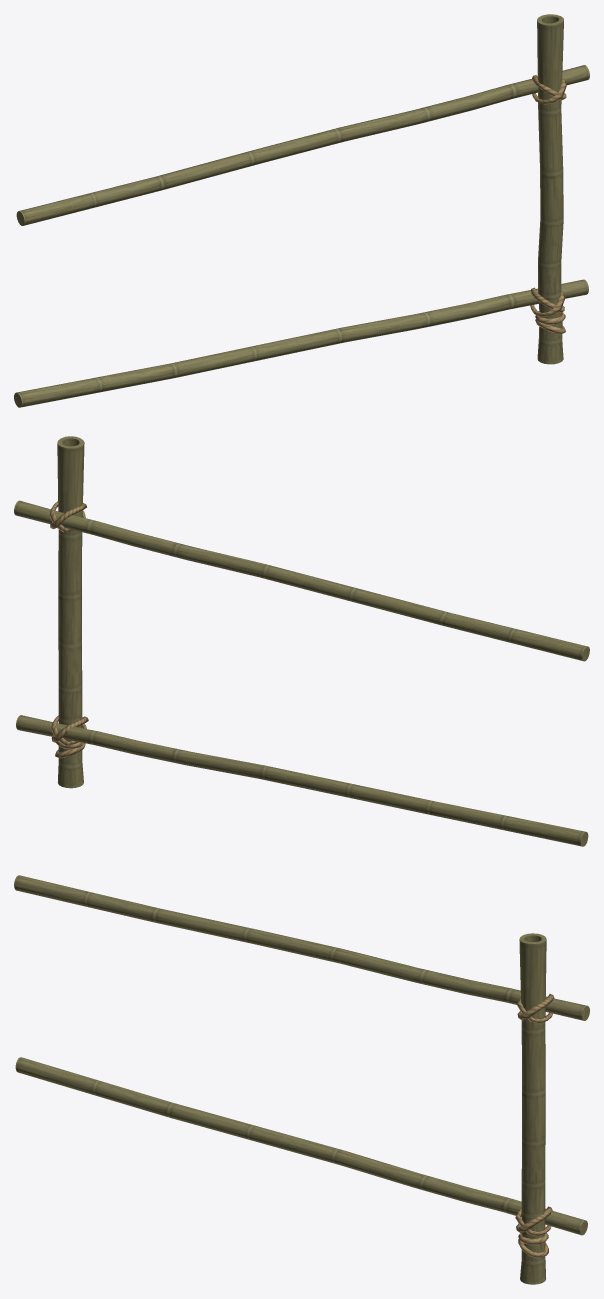
Rendered from SM_EastLands_BambooFence_B_03.fbx.
3 views of the same model, one above another, from view 1: azimuth 30°, elevation 25°; view 2: azimuth 150°, elevation 25°; view 3: azimuth 330°, elevation 25° (orthographic).
Parts seen in each view (by area): view 1: SM_EastLands_BambooFence_B_03_LOD0; view 2: SM_EastLands_BambooFence_B_03_LOD0; view 3: SM_EastLands_BambooFence_B_03_LOD0.
Part boxes in pixels (bbox=[...]): SM_EastLands_BambooFence_B_03_LOD0: bbox=[14, 14, 589, 407]; SM_EastLands_BambooFence_B_03_LOD0: bbox=[14, 436, 589, 846]; SM_EastLands_BambooFence_B_03_LOD0: bbox=[14, 875, 589, 1284].
Bounding box in the file's own units: 236 × 135 × 17.02.
